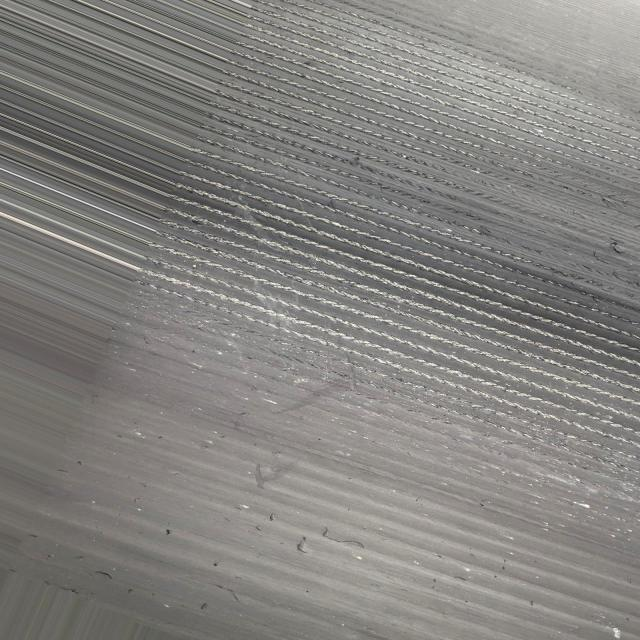Impact Damage: (144, 0, 638, 484)
